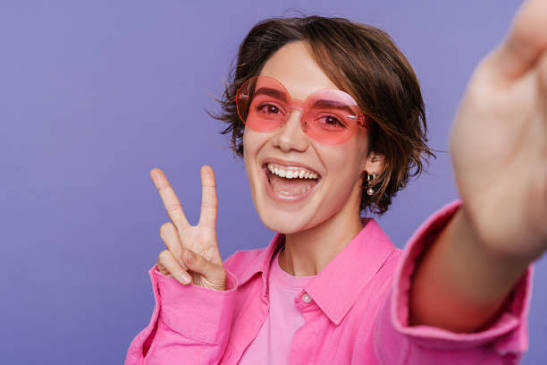peace_sign: (146, 153, 242, 298)
